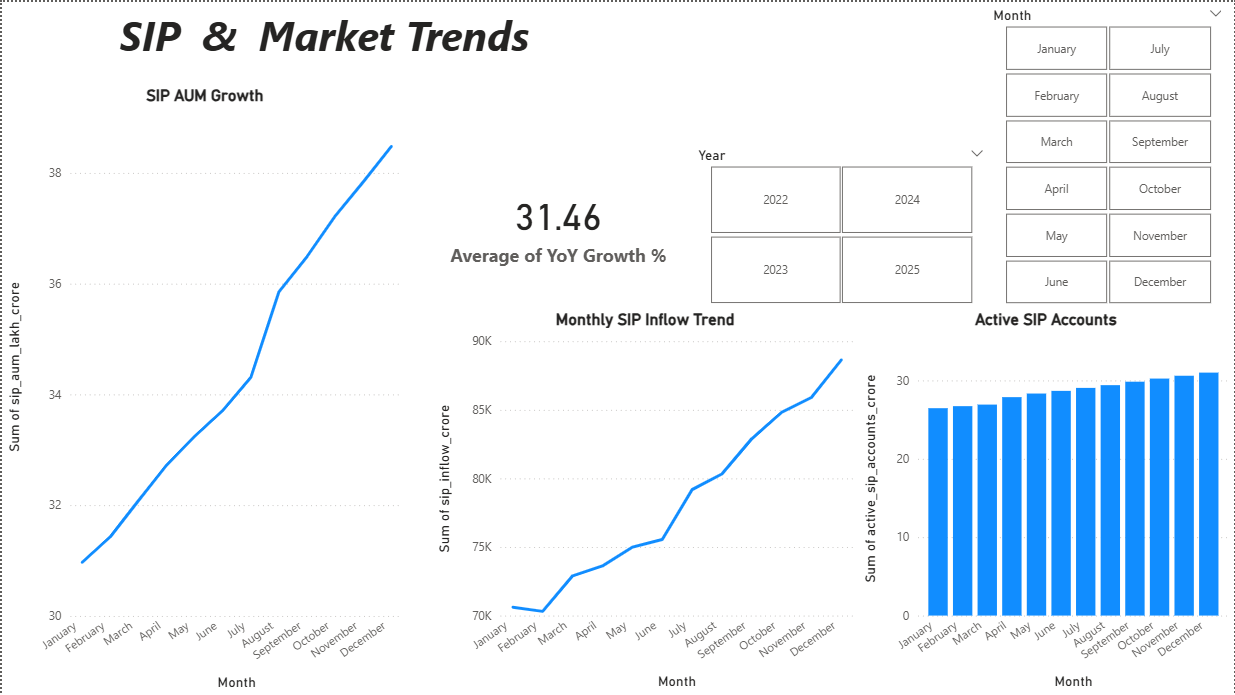

The page's visual inventory and layout, read from the dashboard file:
{"tool":"powerbi","page":{"name":"SIP & Market Trends","canvas":[1280,720],"ordinal":3},"visuals":[{"type":"lineChart","title":"Monthly SIP Inflow Trend","fields":{"Category":["SIP.month.Variation.Date Hierarchy.Month"],"Y":["Sum(SIP.sip_inflow_crore)"]},"box":[447.1,320,442.9,400],"z":0},{"type":"clusteredColumnChart","title":"Active SIP Accounts","fields":{"Category":["SIP.month.Variation.Date Hierarchy.Month"],"Y":["Sum(SIP.active_sip_accounts_crore)"]},"box":[890,320,390,400],"z":1000},{"type":"lineChart","title":"SIP AUM Growth","fields":{"Category":["SIP.month.Variation.Date Hierarchy.Month"],"Y":["Sum(SIP.sip_aum_lakh_crore)"]},"box":[0,87.1,421.4,632.9],"z":2000},{"type":"card","fields":{"Values":["Avg(SIP.yoy_growth_pct)"]},"box":[710,0,306.7,128.3],"z":3000},{"type":"slicer","fields":{"Values":["SIP.month.Variation.Date Hierarchy.Month"]},"box":[1017.1,0,262.9,320],"z":4000},{"type":"slicer","fields":{"Values":["SIP.month.Variation.Date Hierarchy.Year"]},"box":[710,145.7,321.4,174.3],"z":5000},{"type":"textbox","box":[0,0,670,87.1],"z":6000}]}

Visuals, with their boxes in screenshot pixels (x1, y1, x2, y2), scaled from the page's 1280x720 canvas onto the 1235x695 screenshot:
"Monthly SIP Inflow Trend" lineChart: locate(431, 309, 859, 694)
"Active SIP Accounts" clusteredColumnChart: locate(859, 309, 1234, 694)
"SIP AUM Growth" lineChart: locate(0, 84, 407, 694)
card - Avg(SIP.yoy_growth_pct): locate(685, 0, 981, 124)
slicer - SIP.month.Variation.Date Hierarchy.Month: locate(981, 0, 1234, 309)
slicer - SIP.month.Variation.Date Hierarchy.Year: locate(685, 141, 995, 309)
textbox: locate(0, 0, 646, 84)
